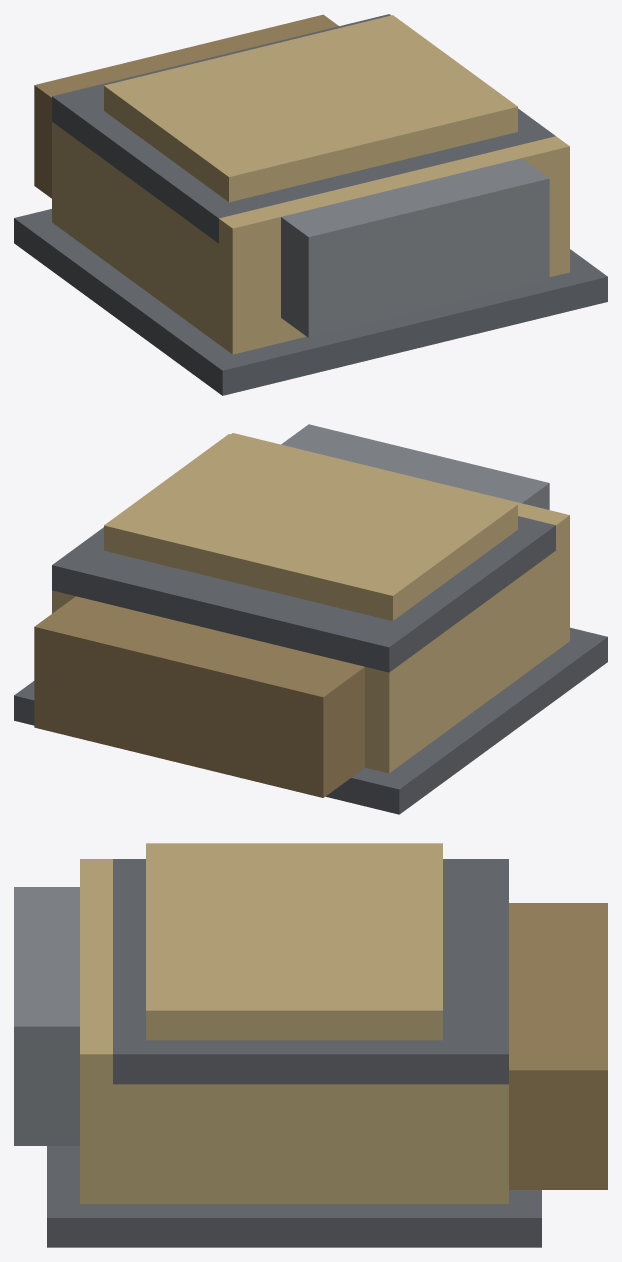
The model's file is turret.glb.
3 renders of one model, top to bottom at view 1: azimuth 30°, elevation 25°; view 2: azimuth 150°, elevation 25°; view 3: azimuth 270°, elevation 25°, orthographic. The views are drawn at different scales.
Bounding box in the file's own units: 16 × 7 × 18.
